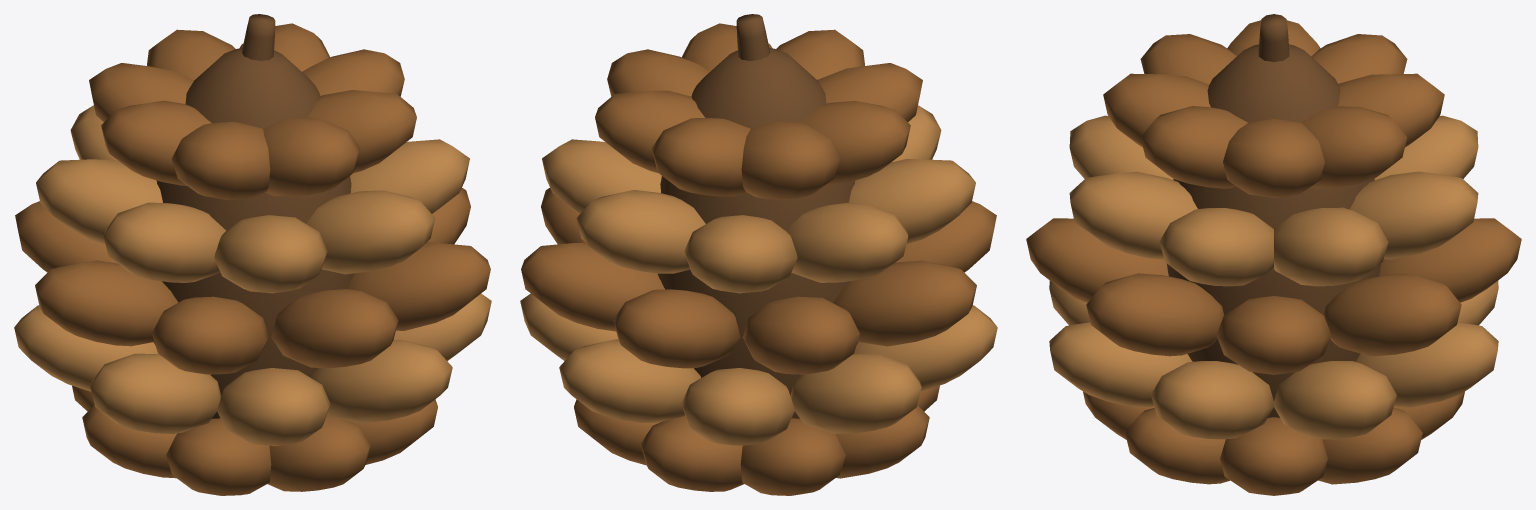
File: pine_cone.glb
3 renders of one model, left to right at view 1: azimuth 30°, elevation 25°; view 2: azimuth 150°, elevation 25°; view 3: azimuth 270°, elevation 25°, orthographic.
Visible parts, largest first — view 1: PropGeometryGeometry; view 2: PropGeometryGeometry; view 3: PropGeometryGeometry.
Part boxes in pixels (<box>): PropGeometryGeometry: <box>14,14,491,495</box>; PropGeometryGeometry: <box>520,14,997,495</box>; PropGeometryGeometry: <box>1026,14,1521,495</box>.
Bounding box in the file's own units: 0.9017 × 0.9234 × 0.9017.
